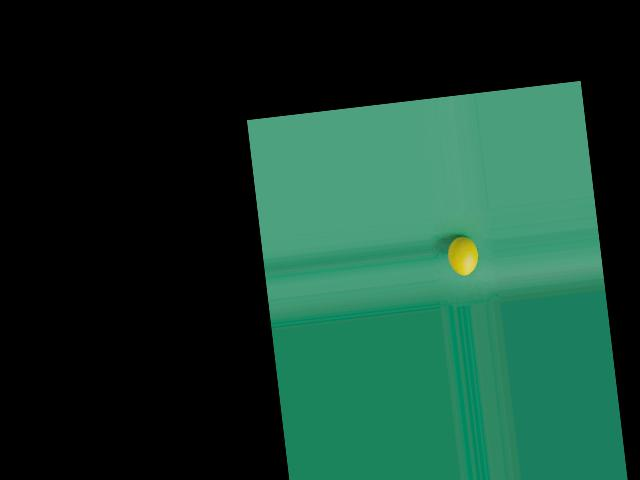egg: (447, 234, 481, 277)
